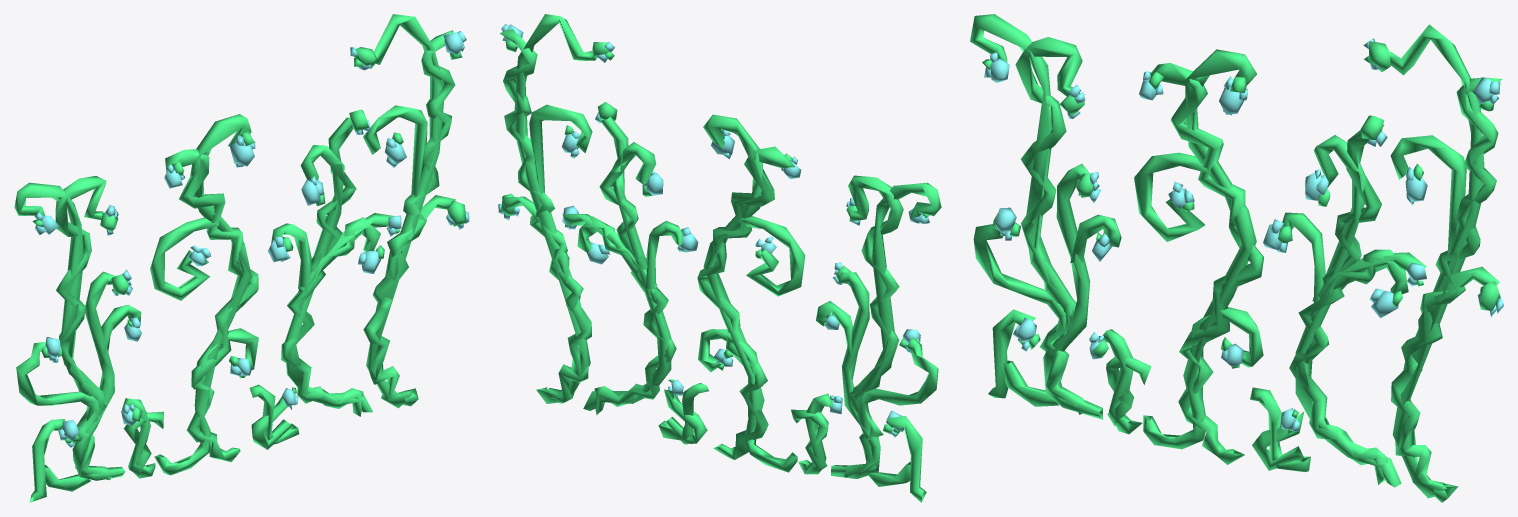
Rendered from TrepadeiraPlantaC.fbx.
3 views of the same model, side by side, from view 1: azimuth 30°, elevation 25°; view 2: azimuth 150°, elevation 25°; view 3: azimuth 330°, elevation 25° (orthographic). The views are drawn at different scales.
Visible parts, largest first — view 1: Ramos3, Fruto3; view 2: Ramos3, Fruto3; view 3: Ramos3, Fruto3.
Boxes of the visible parts, x1,y1,x2,y2 form: Ramos3: (14,14,455,502); Fruto3: (32,31,469,447); Ramos3: (500,14,941,502); Fruto3: (498,23,929,437); Ramos3: (970,14,1502,502); Fruto3: (982,38,1503,434).
Bounding box in the file's own units: 252 × 218 × 13.72.
